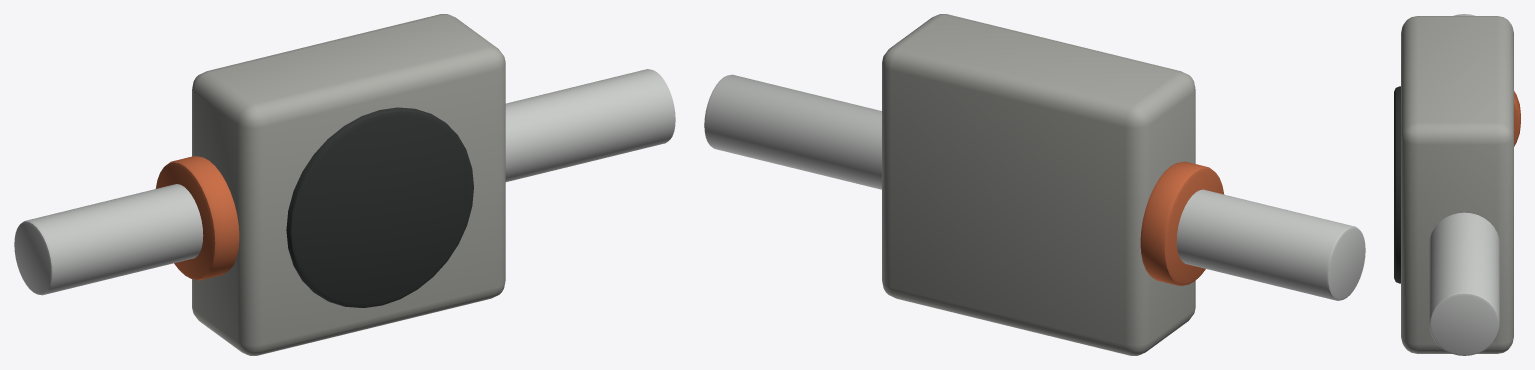
Rendered from welding_positioner_tilt_cradle.glb.
3 renders of one model, left to right at view 1: azimuth 30°, elevation 25°; view 2: azimuth 150°, elevation 25°; view 3: azimuth 270°, elevation 25°, orthographic. The views are drawn at different scales.
Parts seen in each view (by area): view 1: welding_positioner_tilt_cradle; view 2: welding_positioner_tilt_cradle; view 3: welding_positioner_tilt_cradle.
Part boxes in pixels (bbox=[...]): welding_positioner_tilt_cradle: bbox=[14, 14, 675, 355]; welding_positioner_tilt_cradle: bbox=[704, 14, 1365, 355]; welding_positioner_tilt_cradle: bbox=[1394, 14, 1520, 355].
Bounding box in the file's own units: 0.47 × 0.18 × 0.09.
